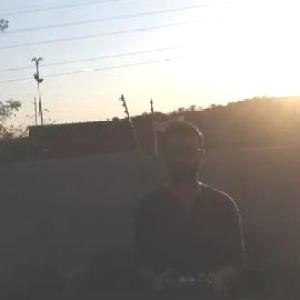follow: (123, 114, 254, 299)
